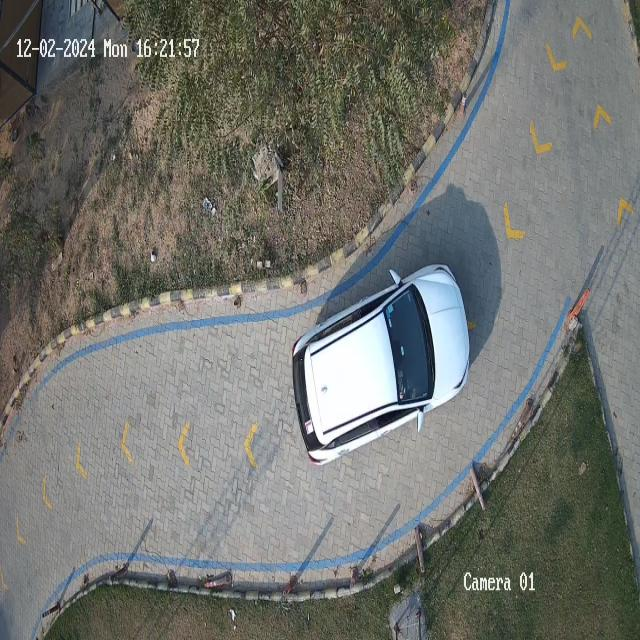car: (292, 261, 471, 466)
